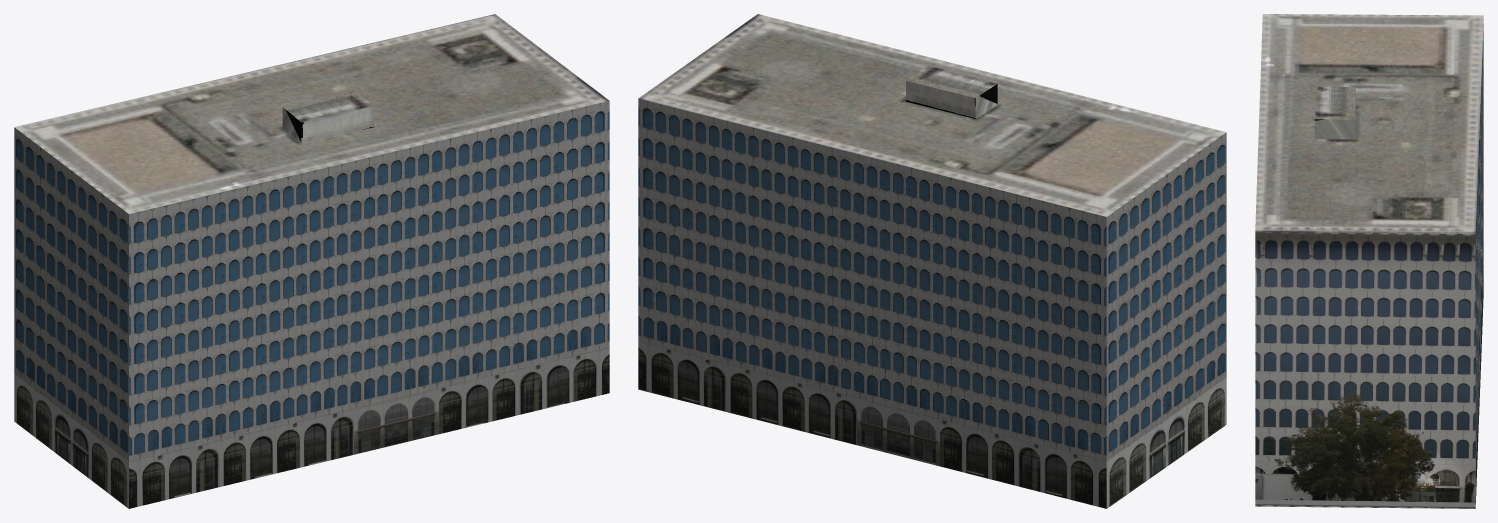
The model's file is Building_9.fbx.
3 renders of one model, left to right at view 1: azimuth 30°, elevation 25°; view 2: azimuth 150°, elevation 25°; view 3: azimuth 270°, elevation 25°, orthographic. The views are drawn at different scales.
Visible parts, largest first — view 1: Component_2_1, Component_1_1; view 2: Component_2_1, Component_1_1; view 3: Component_2_1, Component_1_1.
Boxes of the visible parts, x1,y1,x2,y2 form: Component_2_1: (14, 14, 609, 508); Component_1_1: (282, 90, 374, 143); Component_2_1: (638, 14, 1226, 508); Component_1_1: (906, 65, 997, 118); Component_2_1: (1255, 14, 1483, 508); Component_1_1: (1314, 86, 1355, 139).
Bounding box in the file's own units: 2315 × 1456 × 1018.
